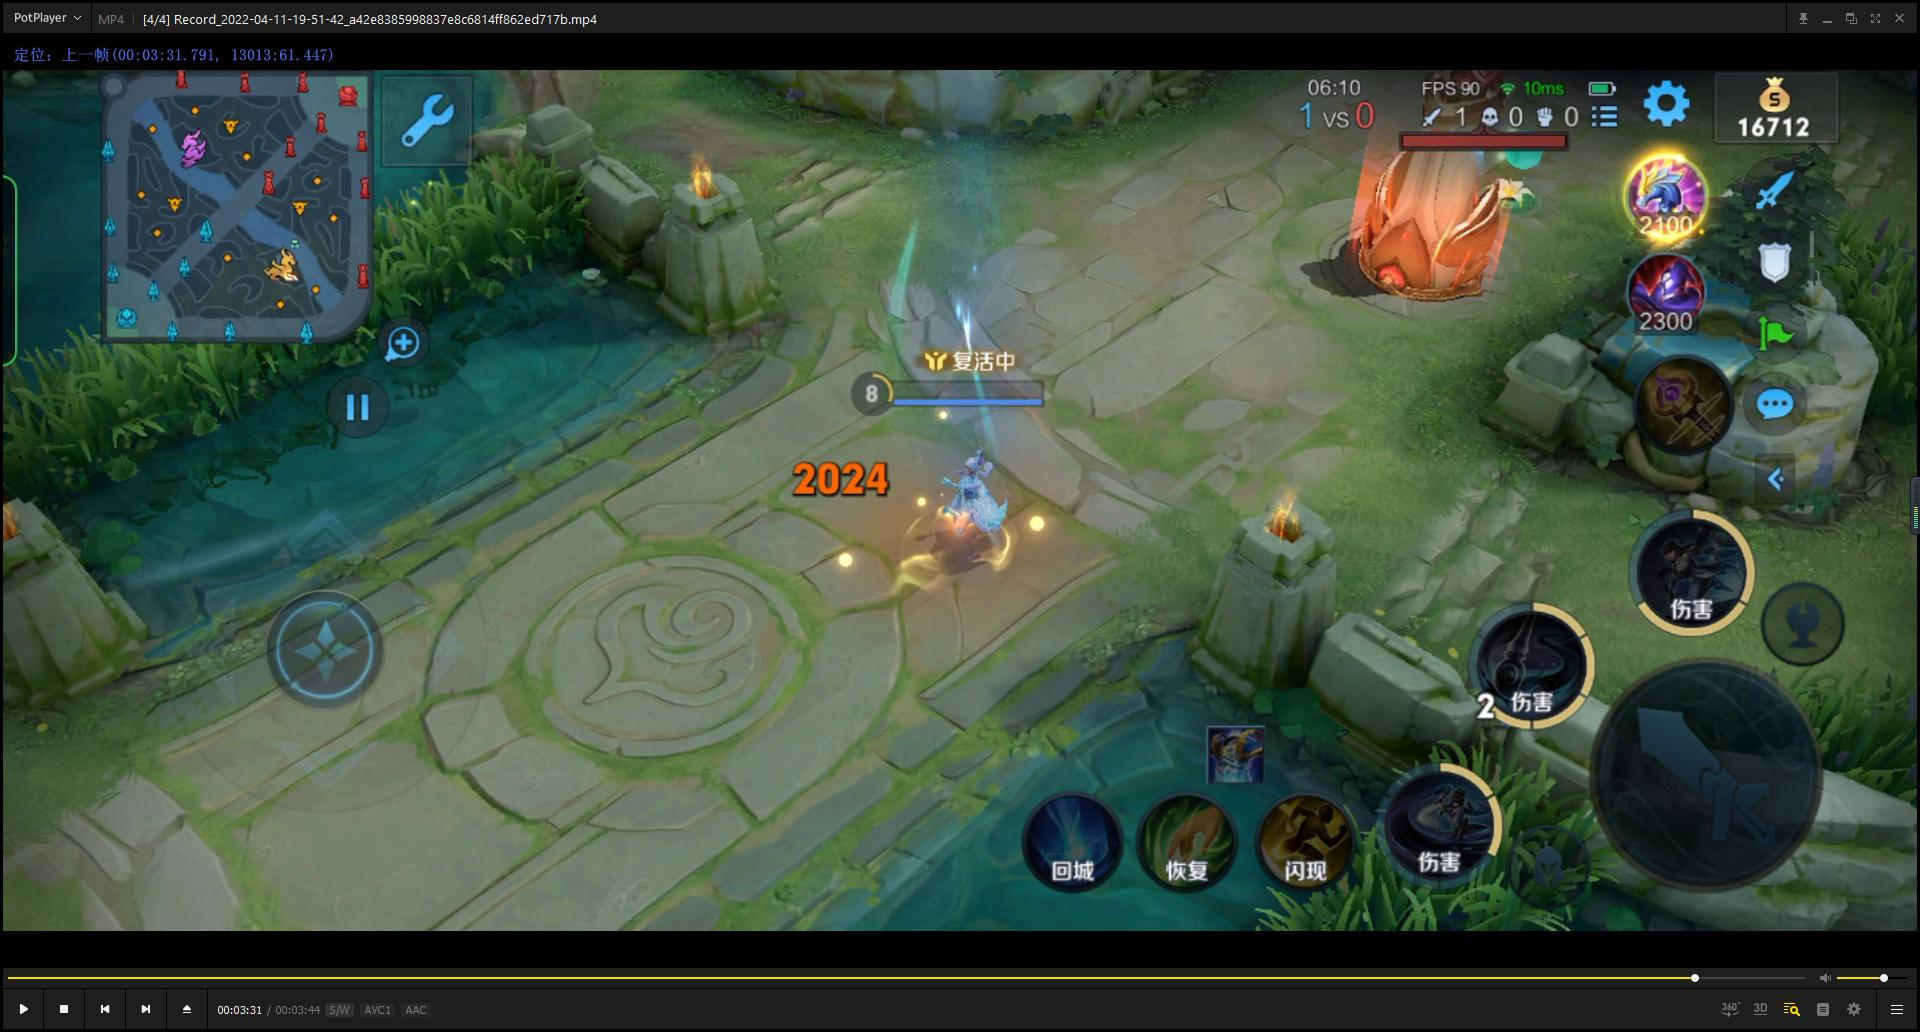Hero: (882, 423, 1050, 599)
Tower: (1309, 70, 1579, 302)
